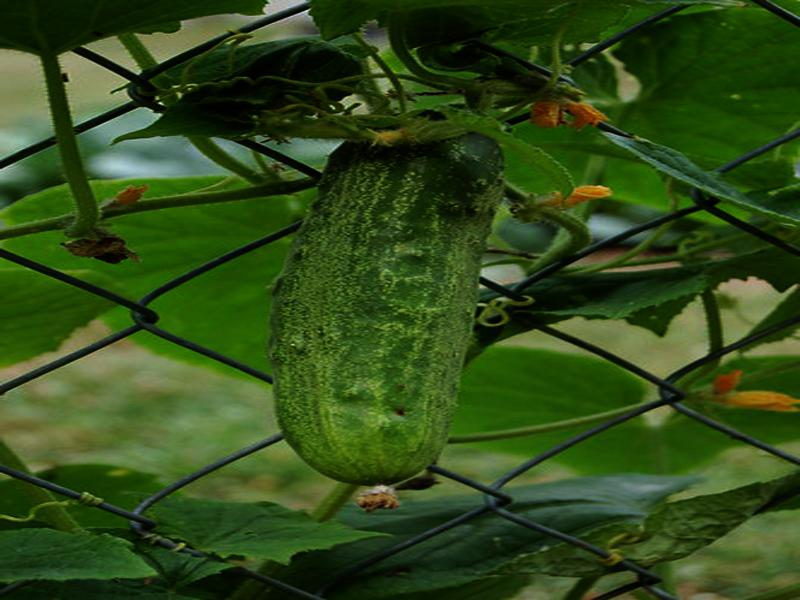Cucumber: (274, 113, 498, 507)
